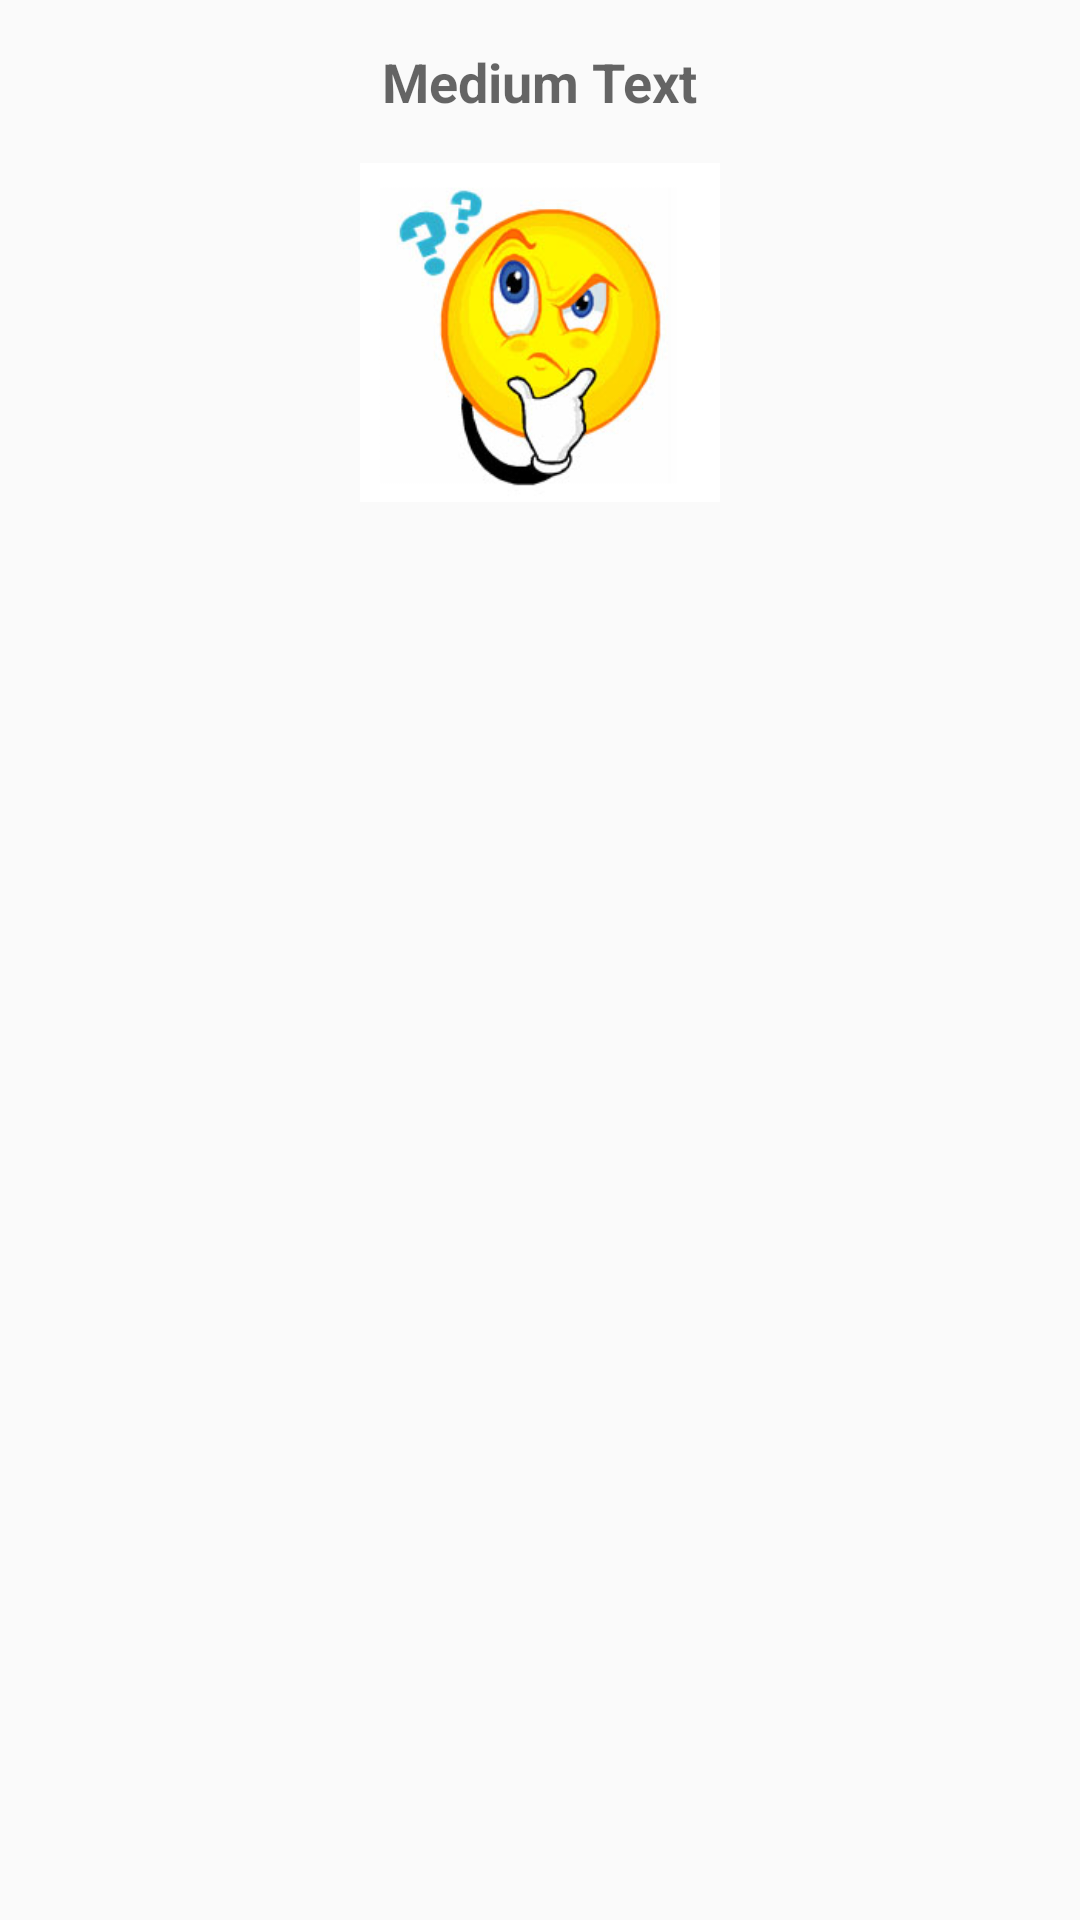

Icon click points for this 1080w x 1920h phone screenshot, format (x,y):
pitanje: (530,338)
